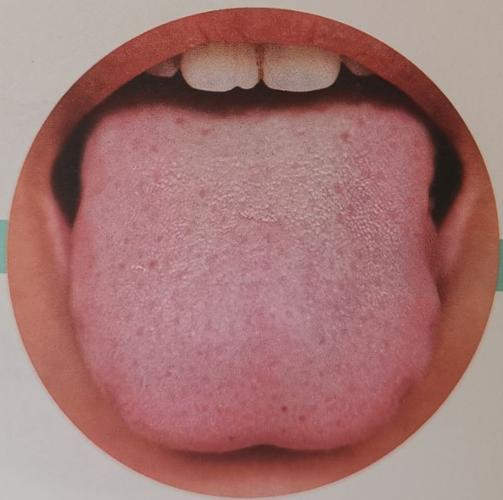baitaishe: (70, 100, 441, 452)
chihenshe: (394, 235, 440, 421)
hongdianshe: (163, 366, 308, 444)
